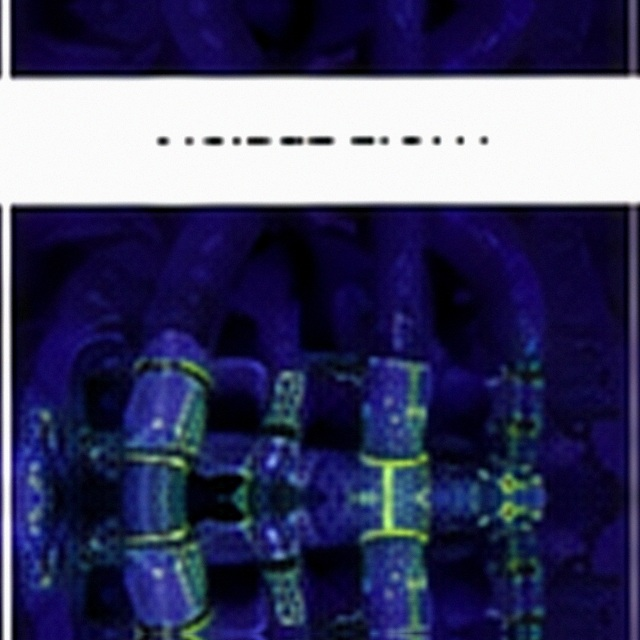hydraulic_oil_leak: (352, 363, 428, 587), (496, 466, 538, 529), (170, 397, 203, 453), (169, 542, 203, 579), (266, 401, 297, 427), (267, 568, 298, 592), (182, 361, 210, 380), (163, 488, 180, 510), (233, 486, 246, 510), (175, 522, 187, 539), (174, 459, 187, 473), (241, 517, 253, 528), (240, 468, 252, 479), (127, 452, 145, 457), (509, 427, 517, 437), (194, 382, 202, 391), (520, 522, 528, 529), (480, 517, 487, 525), (520, 465, 528, 472), (292, 381, 299, 389), (480, 470, 487, 477), (134, 541, 146, 544), (531, 363, 537, 369), (514, 414, 520, 419), (170, 474, 174, 480), (294, 395, 297, 402), (535, 380, 540, 384), (153, 453, 159, 456), (169, 515, 173, 519), (278, 388, 282, 392), (295, 594, 298, 599), (536, 420, 538, 425), (531, 432, 534, 435), (361, 454, 364, 456), (513, 447, 515, 450)
